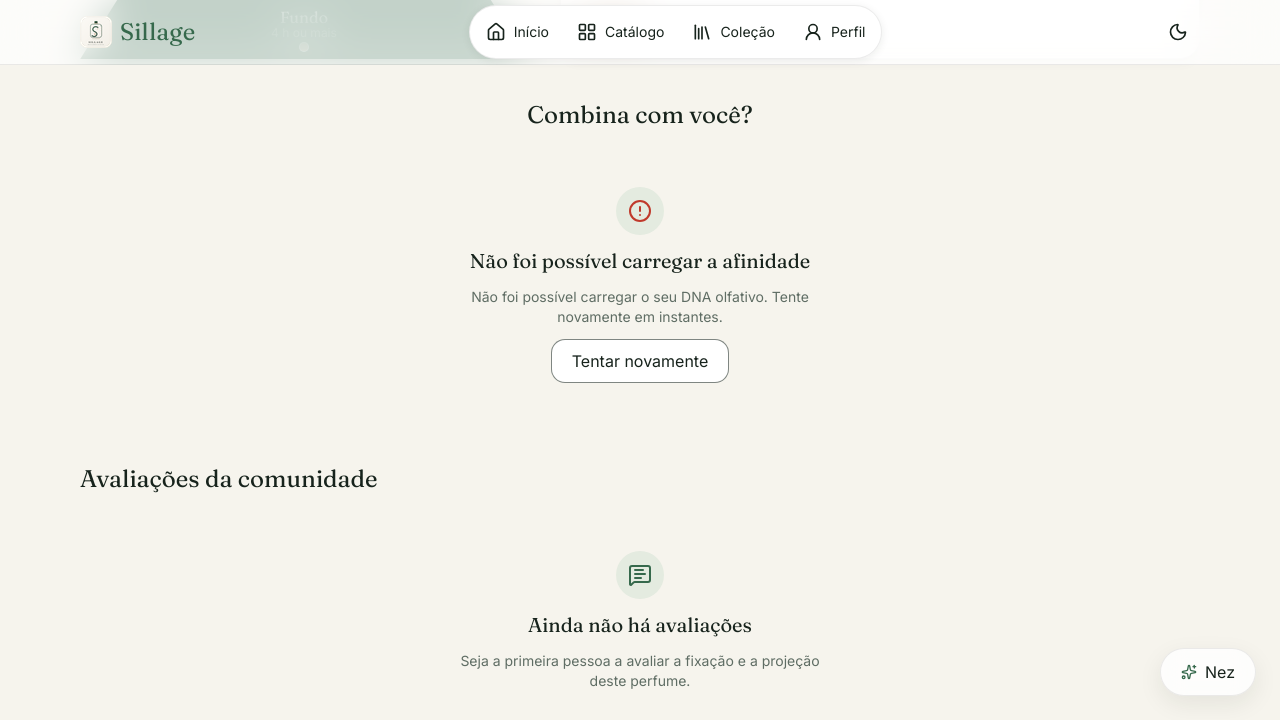
Scenario: página de detalhes do perfume › Combina com você? (Fase 18A) › falha do DNA mostra erro com tentar de novo e não esconde o perfume
(page scrolled)
Check: the text "Não foi possível carregar o seu DNA olfativo. Tente novamente em instantes." is shown, box x1=448 y1=286 x2=832 y2=326
Click the button "Tentar novamente": [640, 360] box x1=551 y1=338 x2=729 y2=382
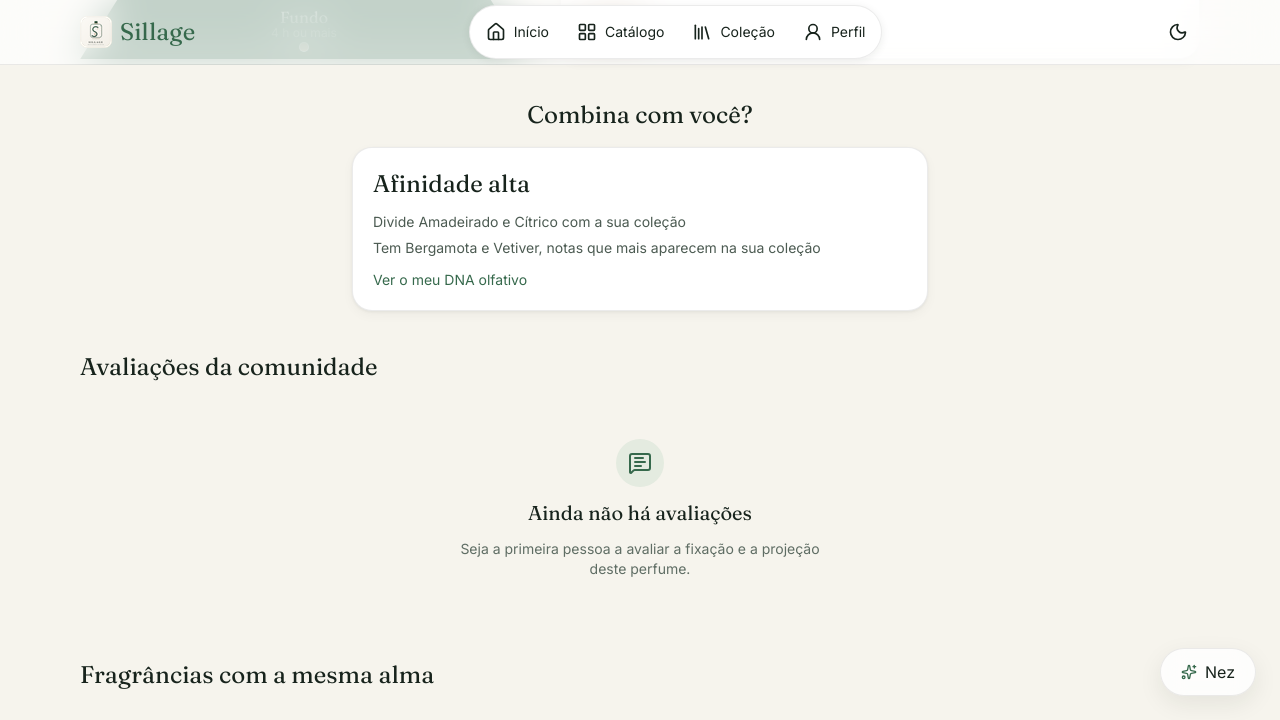
Check: the text "Afinidade alta" is shown, box x1=373 y1=168 x2=530 y2=198
